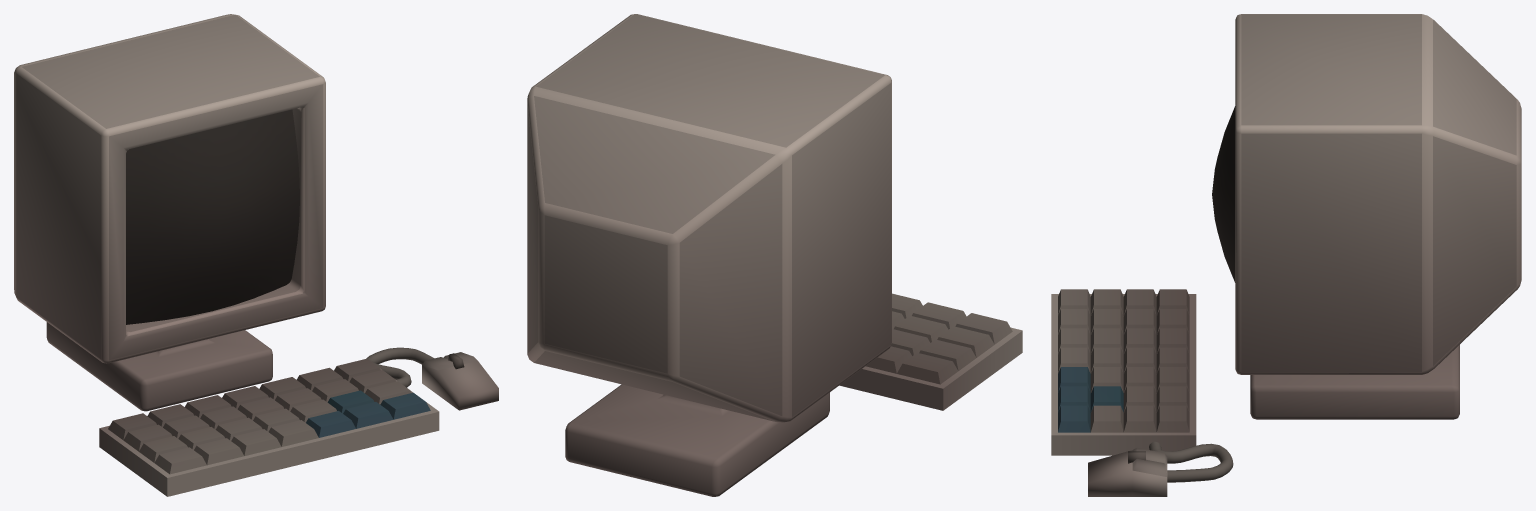
File: computer.fbx
3 views of the same model, side by side, from view 1: azimuth 30°, elevation 25°; view 2: azimuth 150°, elevation 25°; view 3: azimuth 270°, elevation 25° (orthographic). The views are drawn at different scales.
Visible parts, largest first — view 1: computer; view 2: computer; view 3: computer.
Part boxes in pixels (bbox=[...]): computer: bbox=[14, 14, 498, 496]; computer: bbox=[527, 14, 1022, 496]; computer: bbox=[1051, 14, 1521, 496].
Bounding box in the file's own units: 208 × 170 × 228.
